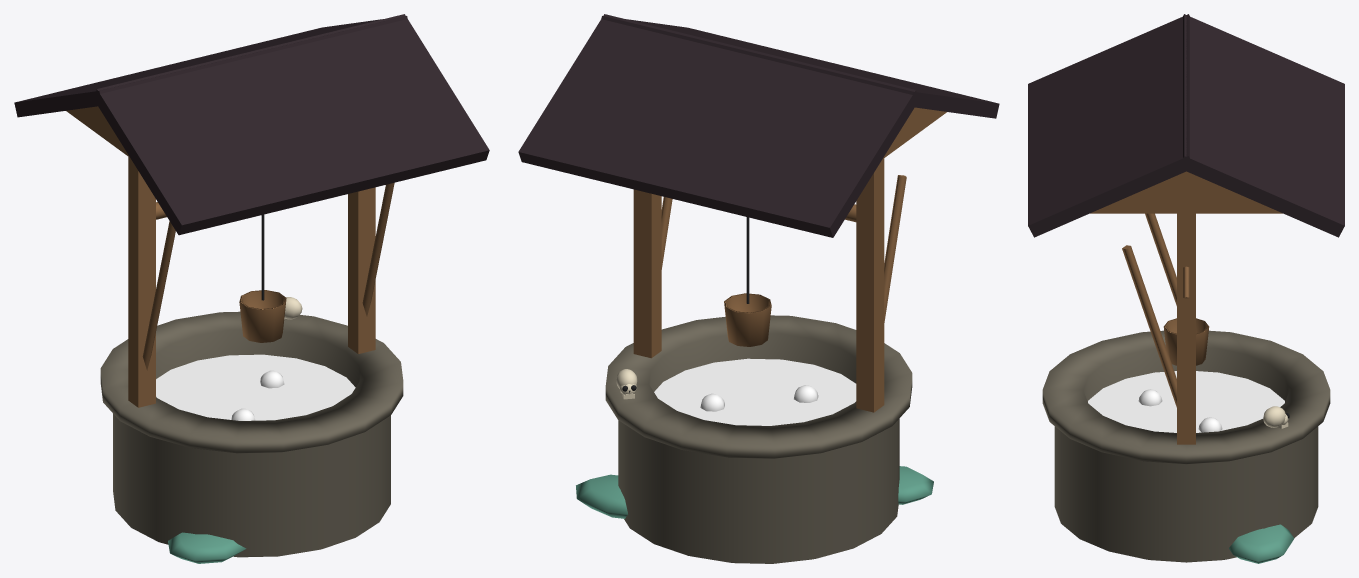
The model's file is WISHING_WELL.glb.
3 views of the same model, side by side, from view 1: azimuth 30°, elevation 25°; view 2: azimuth 150°, elevation 25°; view 3: azimuth 270°, elevation 25° (orthographic). The views are drawn at different scales.
Parts seen in each view (by area): view 1: shingle_3, stone_0, wood_2, slime_1, copper_5; view 2: shingle_3, stone_0, wood_2, slime_1, copper_5; view 3: shingle_3, stone_0, wood_2, slime_1, copper_5, bone_6.
Part boxes in pixels (bbox=[...]): shingle_3: bbox=[14, 14, 489, 235]; stone_0: bbox=[100, 311, 403, 557]; wood_2: bbox=[66, 106, 394, 407]; slime_1: bbox=[156, 354, 355, 420]; copper_5: bbox=[168, 532, 246, 563]; shingle_3: bbox=[518, 14, 999, 237]; stone_0: bbox=[605, 315, 912, 563]; wood_2: bbox=[633, 107, 946, 412]; slime_1: bbox=[654, 358, 856, 425]; copper_5: bbox=[576, 466, 933, 518]; shingle_3: bbox=[1028, 14, 1344, 237]; stone_0: bbox=[1042, 330, 1330, 562]; wood_2: bbox=[1090, 171, 1282, 444]; slime_1: bbox=[1088, 371, 1284, 432]; copper_5: bbox=[1229, 524, 1294, 563]; bone_6: bbox=[1263, 406, 1288, 428].
Size of the model in its own units: 2.8 by 3.93 by 2.64.
